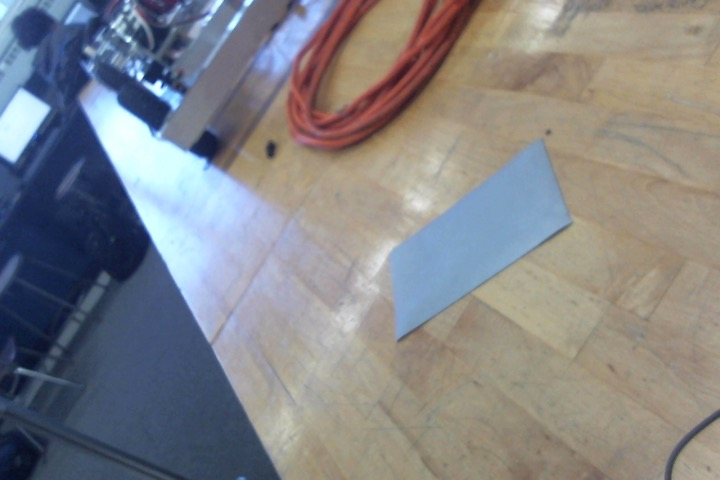Tape: (388, 140, 576, 340)
